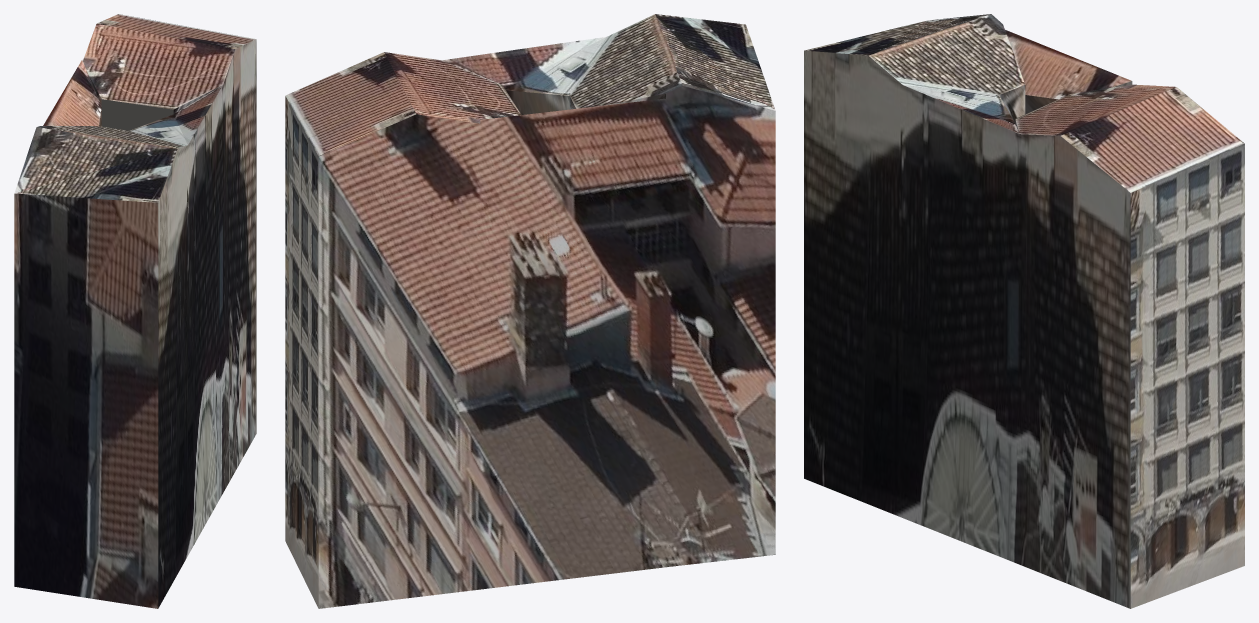
3 views of the same model, side by side, from view 1: azimuth 30°, elevation 25°; view 2: azimuth 150°, elevation 25°; view 3: azimuth 270°, elevation 25° (orthographic). The views are drawn at different scales.
Visible parts, largest first — view 1: Z_UP; view 2: Z_UP; view 3: Z_UP.
Part boxes in pixels (x1,y1,x2,y2): Z_UP: (14, 14, 256, 608); Z_UP: (285, 14, 775, 608); Z_UP: (804, 14, 1244, 608).
Size of the model in its own units: 19.01 by 22.97 by 20.35.
Materials: 2 (1 with a texture image).
